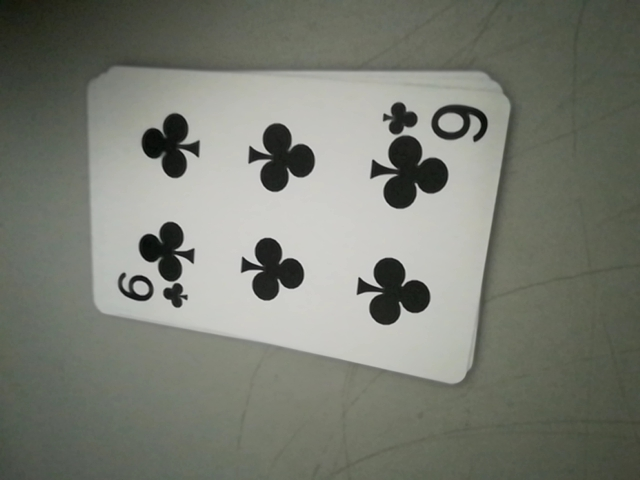mh 6: (381, 97, 492, 142), (111, 273, 188, 314)
